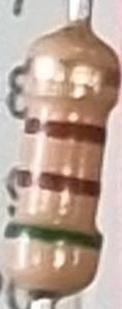Brown: (16, 168, 101, 197), (24, 116, 106, 144)
Green: (3, 220, 102, 253)
Side-Silver: (27, 57, 120, 91)
